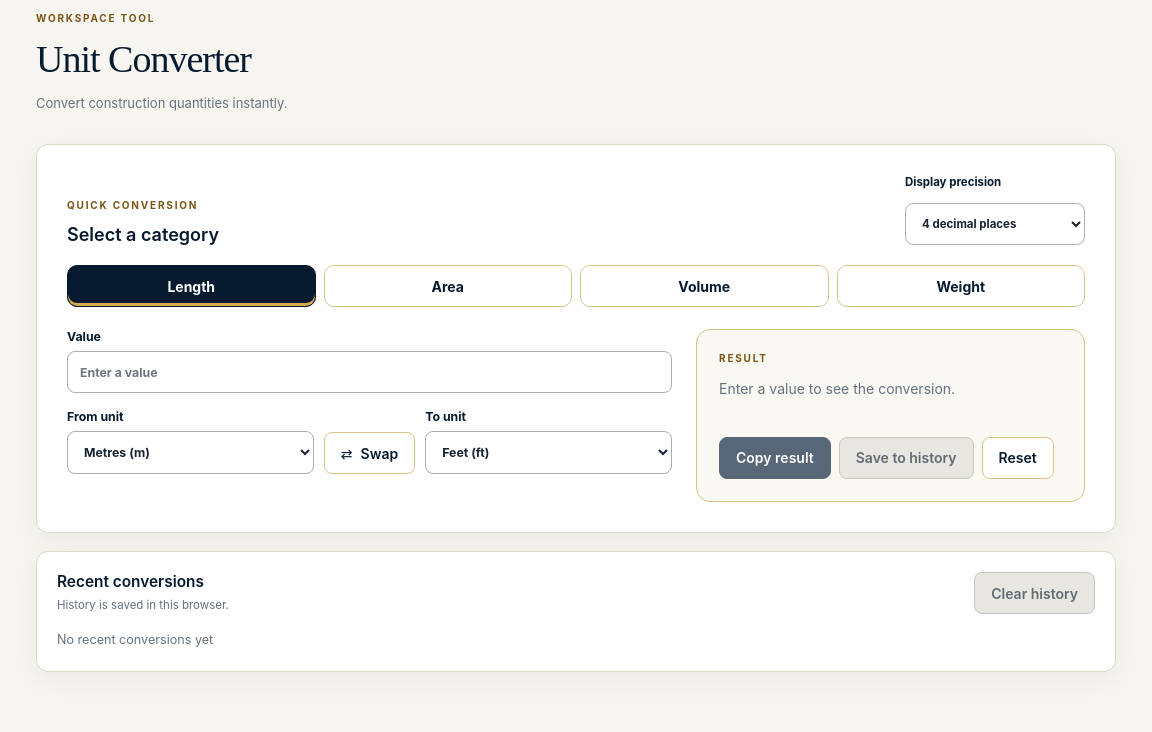
Test: Unit Converter page › shows the trade definition and handles clipboard success and failure
Click the tab "Volume" at (704, 286), box x1=580 y1=265 x2=828 y2=307
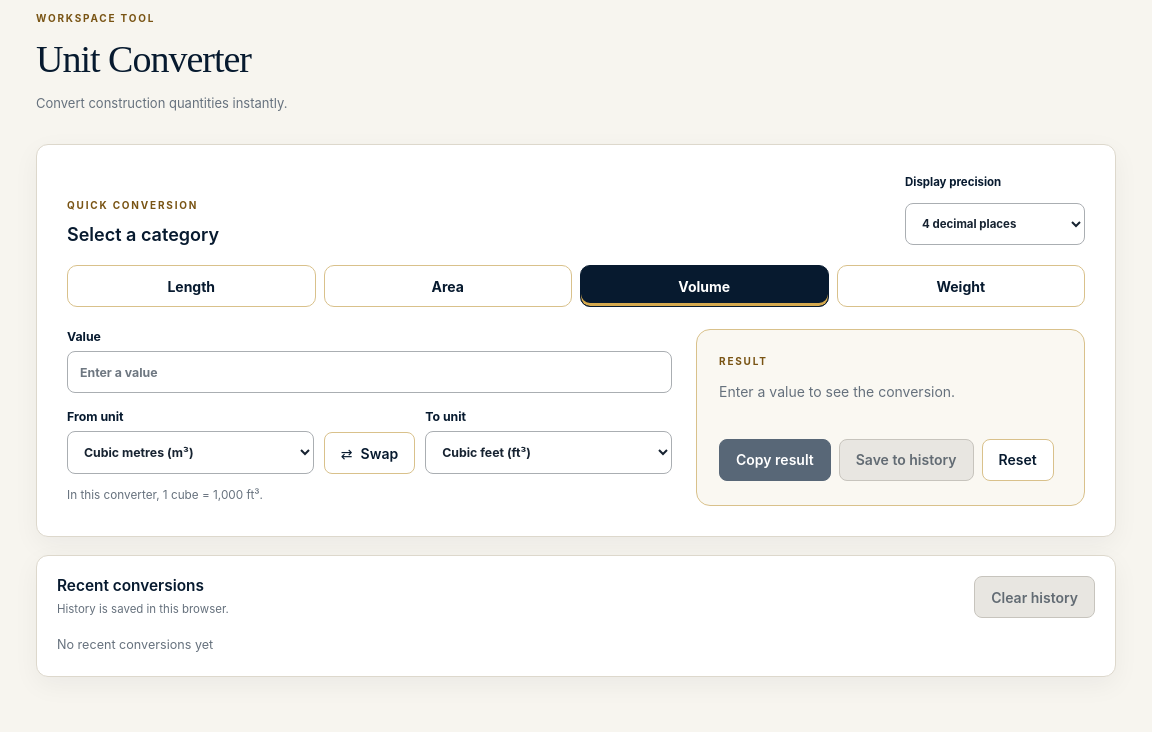
Check: the text "In this converter, 1 cube = 1,000 ft³." is shown, box x1=67 y1=488 x2=263 y2=502
Select "Construction cube (1,000 ft³)" in the dropdown labelled "From unit" at (190, 453), box x1=67 y1=431 x2=314 y2=474
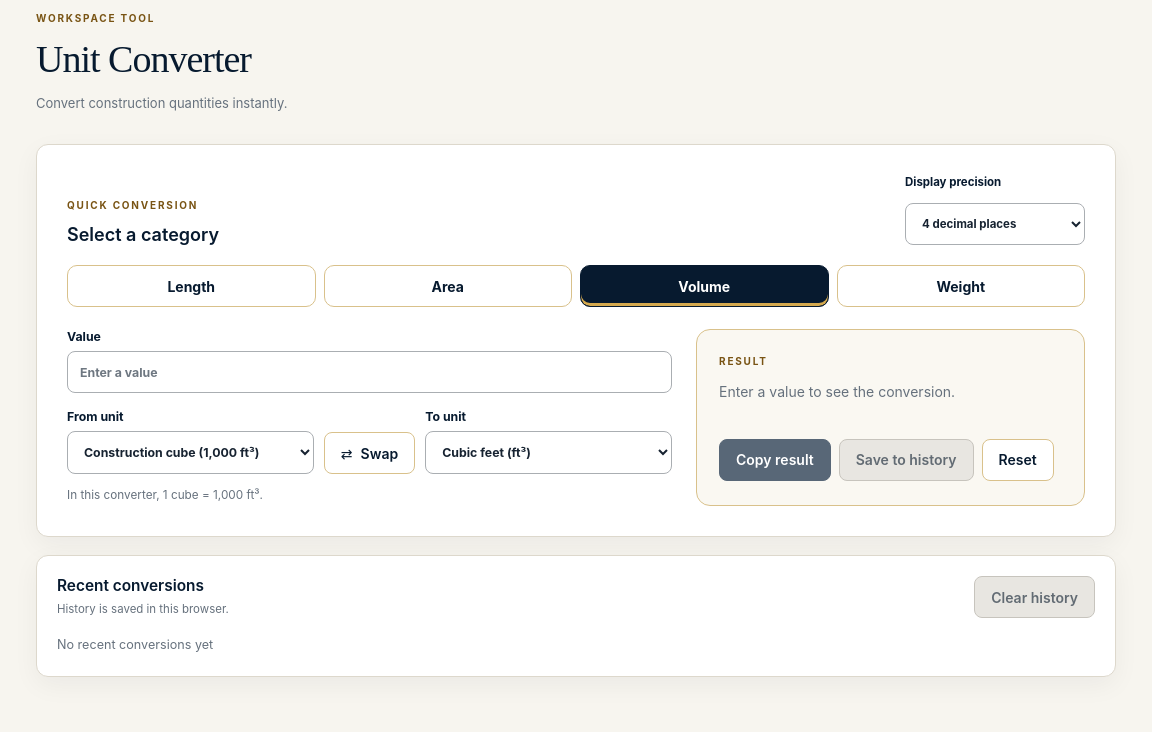
Select "Cubic metres (m³)" in the dropdown labelled "To unit" at (549, 453), box x1=425 y1=431 x2=672 y2=474
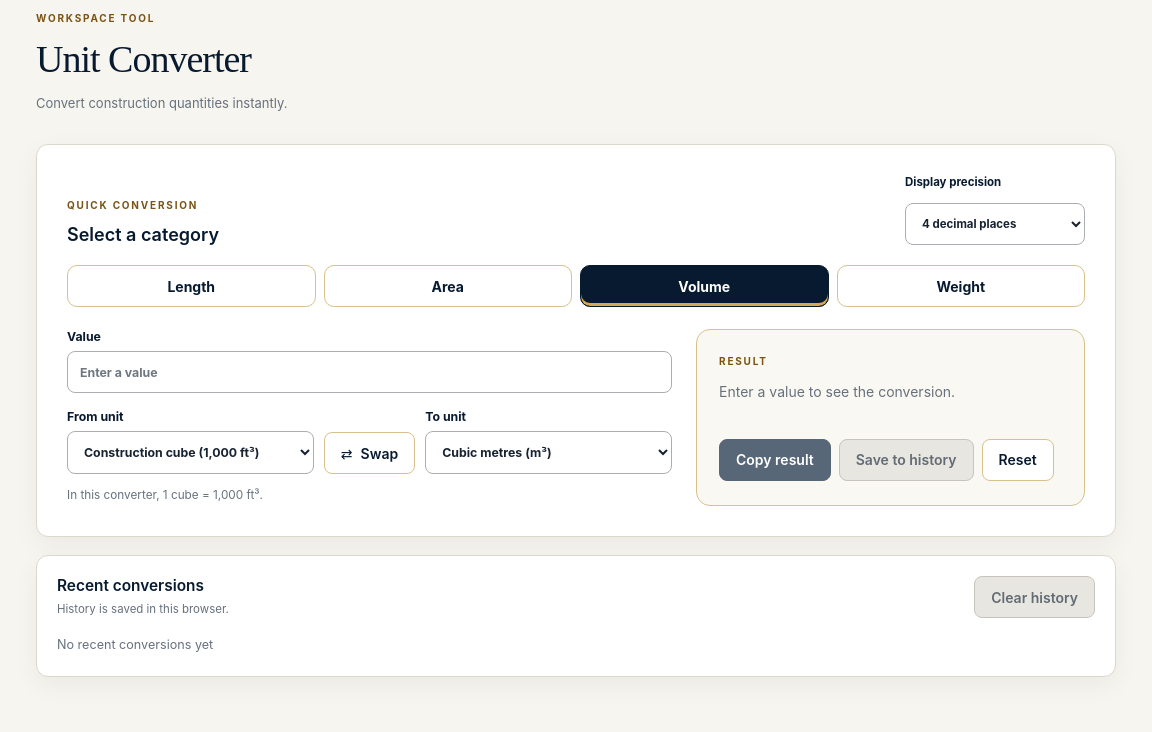
Type "1" into the field labelled "Value" at (370, 372), box x1=67 y1=351 x2=672 y2=393
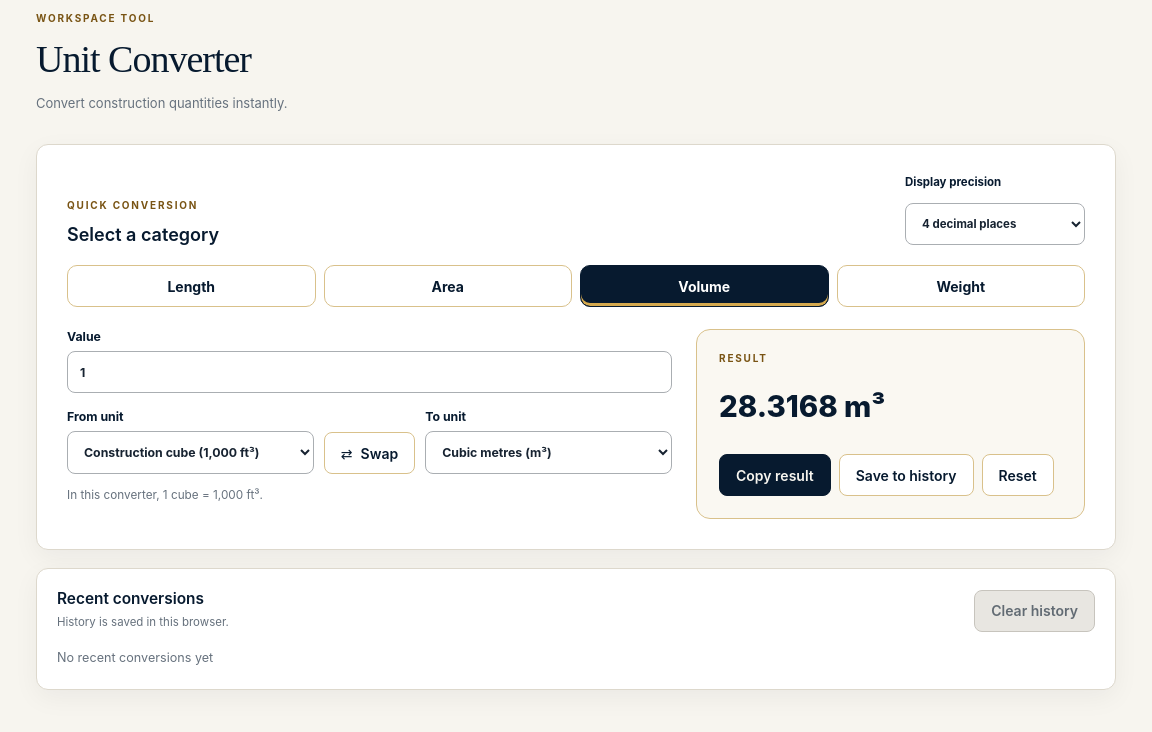
Check: the text named "Converted result" reads "28.3168 m³", box x1=719 y1=389 x2=886 y2=424
Click the button "Copy result" at (775, 475), box x1=719 y1=454 x2=831 y2=496
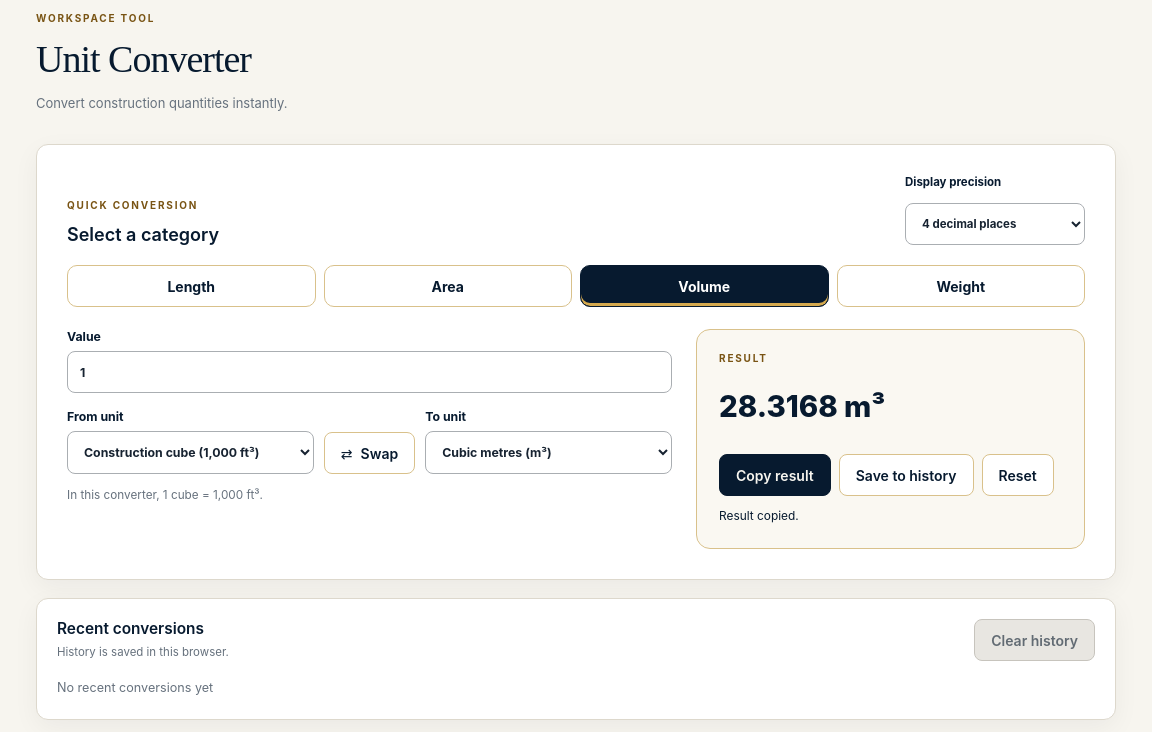
Check: the text "Result copied." is shown, box x1=719 y1=506 x2=799 y2=526
Click the button "Copy result" at (775, 475), box x1=719 y1=454 x2=831 y2=496
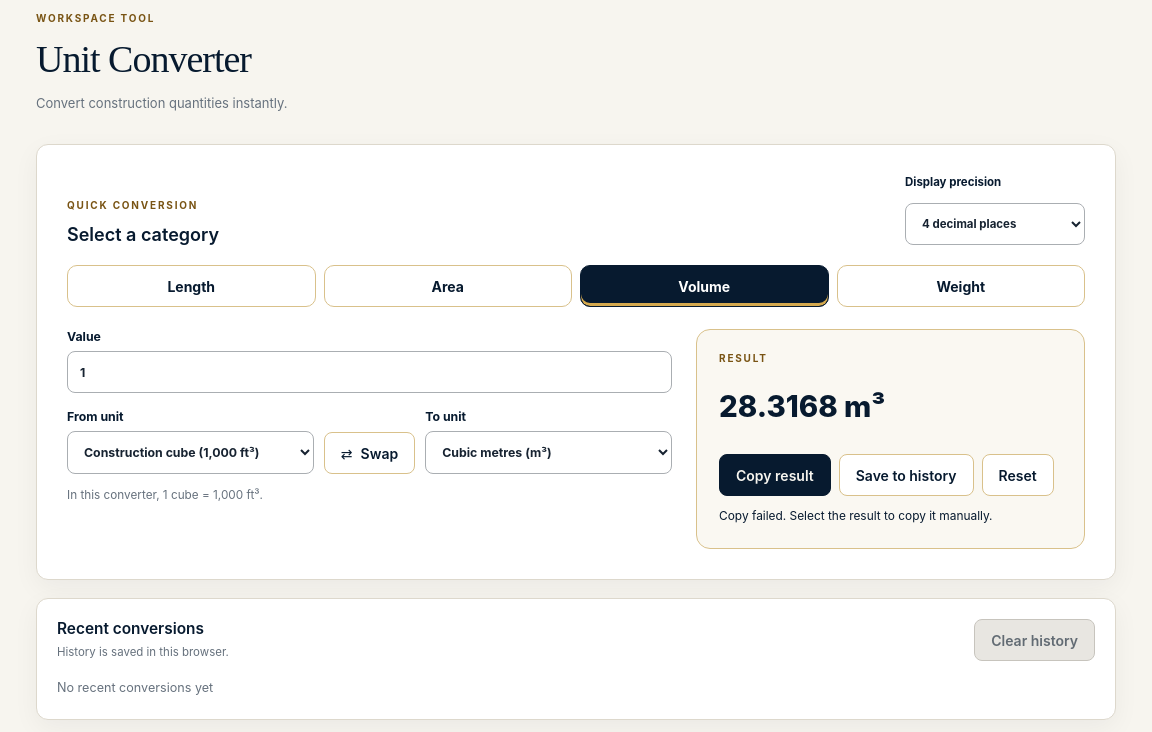
Check: the text "Copy failed. Select the result to copy it manually." is shown, box x1=719 y1=506 x2=992 y2=526
